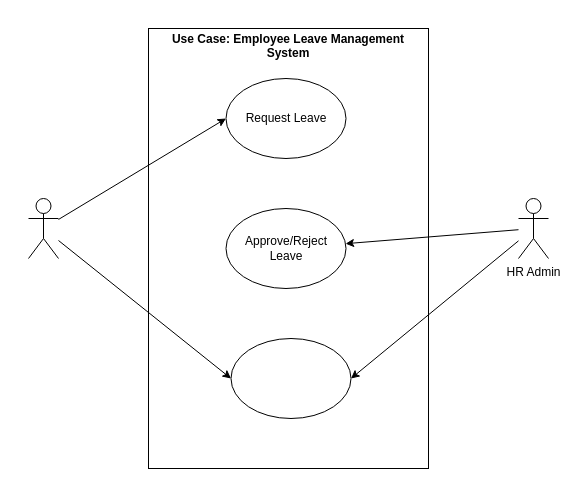
Image size: 578x486. Some labels were removed from this diagram. Here are the shapes that lost their labels. From the top down, the centre of each, then its label:
At point (43, 228): "Employee".
At point (290, 378): "View Leave Balance".
